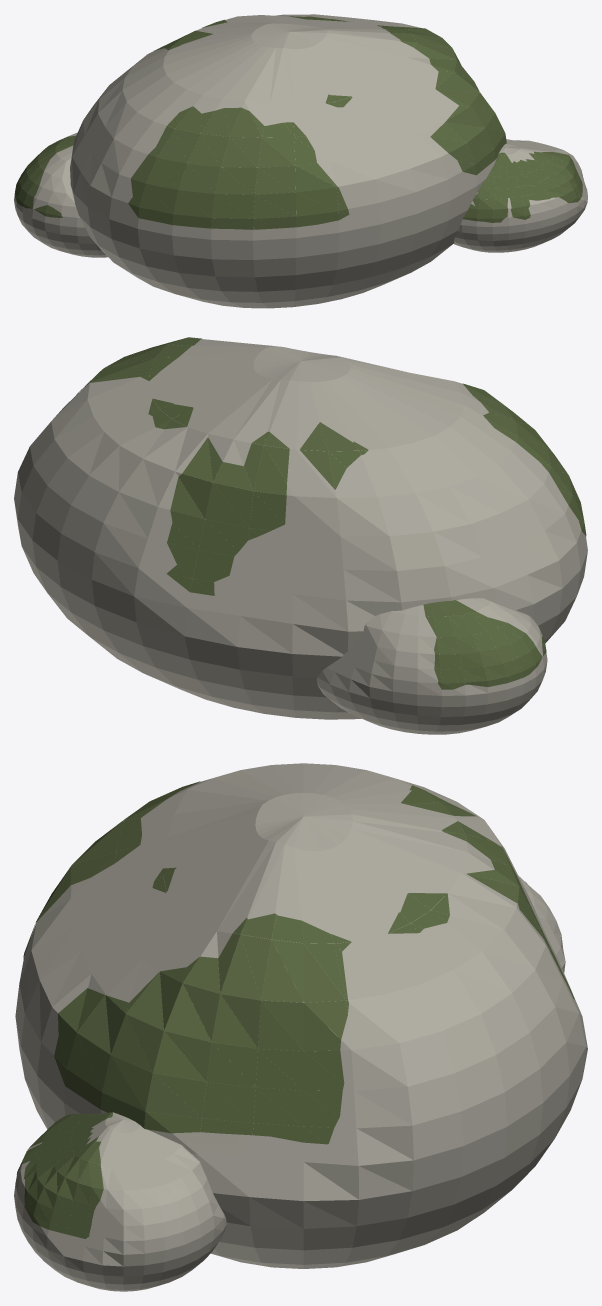
Rendered from river_rock.meshopt.glb.
3 renders of one model, top to bottom at view 1: azimuth 30°, elevation 25°; view 2: azimuth 150°, elevation 25°; view 3: azimuth 270°, elevation 25°, orthographic. The views are drawn at different scales.
Parts seen in each view (by area): view 1: river_rock; view 2: river_rock; view 3: river_rock.
Part boxes in pixels (x1,y1,x2,y2): river_rock: [14, 14, 587, 308]; river_rock: [14, 337, 587, 734]; river_rock: [14, 763, 587, 1291].
Size of the model in its own units: 1.87 by 0.9648 by 1.27.
